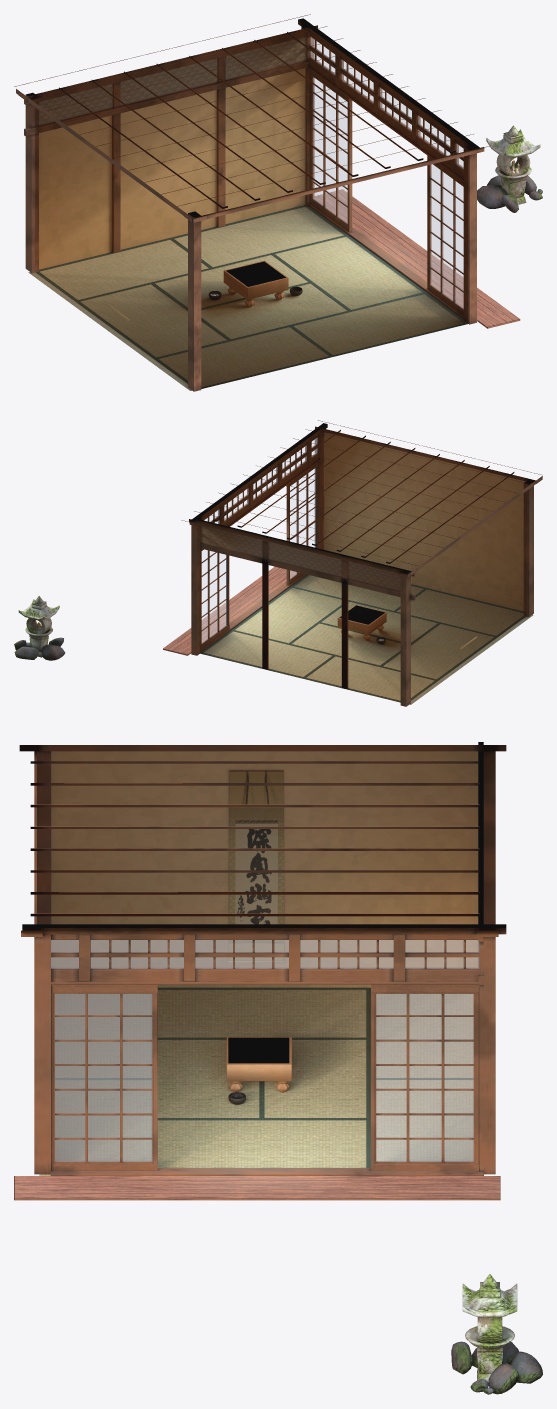
File: Room.glb
The picture shows the model from 3 angles, top to bottom: view 1: azimuth 30°, elevation 25°; view 2: azimuth 150°, elevation 25°; view 3: azimuth 270°, elevation 25°; orthographic projection. The views are drawn at different scales.
Parts seen in each view (by area): view 1: Floor_2, Beam-03.002_3, Wall.001_4, Wall.002_5, Footer_1, Glass02_12, Roof_0, Glass03_13, Additionals_UVGrid_0_8, Glass01_14, WoodBase_11, Grid_6; view 2: Wall.001_4, Floor_2, Beam-03.002_3, Wall.002_5, Footer_1, Roof_0, Additionals_UVGrid_0_8, Glass03_13, Glass02_12, Glass01_14, WoodBase_11, Grid_6; view 3: Wall.001_4, Floor_2, Beam-03.002_3, Glass03_13, Glass02_12, Footer_1, Glass01_14, Additionals_UVGrid_0_8, WoodBase_11, Grid_6.
Boxes of the visible parts, x1,y1,x2,y2 form: Floor_2: [28, 204, 477, 390]; Beam-03.002_3: [16, 18, 484, 391]; Wall.001_4: [39, 68, 305, 320]; Wall.002_5: [39, 36, 306, 125]; Footer_1: [314, 189, 520, 328]; Glass02_12: [430, 164, 463, 308]; Roof_0: [14, 14, 490, 218]; Glass03_13: [313, 77, 347, 223]; Additionals_UVGrid_0_8: [477, 125, 542, 212]; Glass01_14: [310, 37, 463, 168]; WoodBase_11: [223, 260, 288, 307]; Grid_6: [226, 261, 285, 286]; Wall.001_4: [324, 432, 525, 649]; Floor_2: [200, 574, 533, 704]; Beam-03.002_3: [189, 423, 542, 706]; Wall.002_5: [201, 525, 400, 591]; Footer_1: [163, 566, 296, 655]; Roof_0: [181, 420, 542, 574]; Additionals_UVGrid_0_8: [14, 596, 65, 660]; Glass03_13: [201, 549, 226, 642]; Glass02_12: [290, 468, 315, 578]; Glass01_14: [204, 438, 317, 523]; WoodBase_11: [337, 605, 386, 639]; Grid_6: [339, 605, 384, 624]; Wall.001_4: [51, 751, 479, 987]; Floor_2: [39, 987, 483, 1175]; Beam-03.002_3: [19, 742, 506, 1175]; Glass03_13: [376, 994, 473, 1161]; Glass02_12: [55, 994, 152, 1161]; Footer_1: [14, 1176, 500, 1200]; Glass01_14: [51, 940, 479, 968]; Additionals_UVGrid_0_8: [451, 1274, 542, 1394]; WoodBase_11: [226, 1037, 291, 1092]; Grid_6: [228, 1037, 289, 1063].
Bounding box in the file's own units: 11.99 × 5.05 × 7.69.
15 materials, 14 textured.
